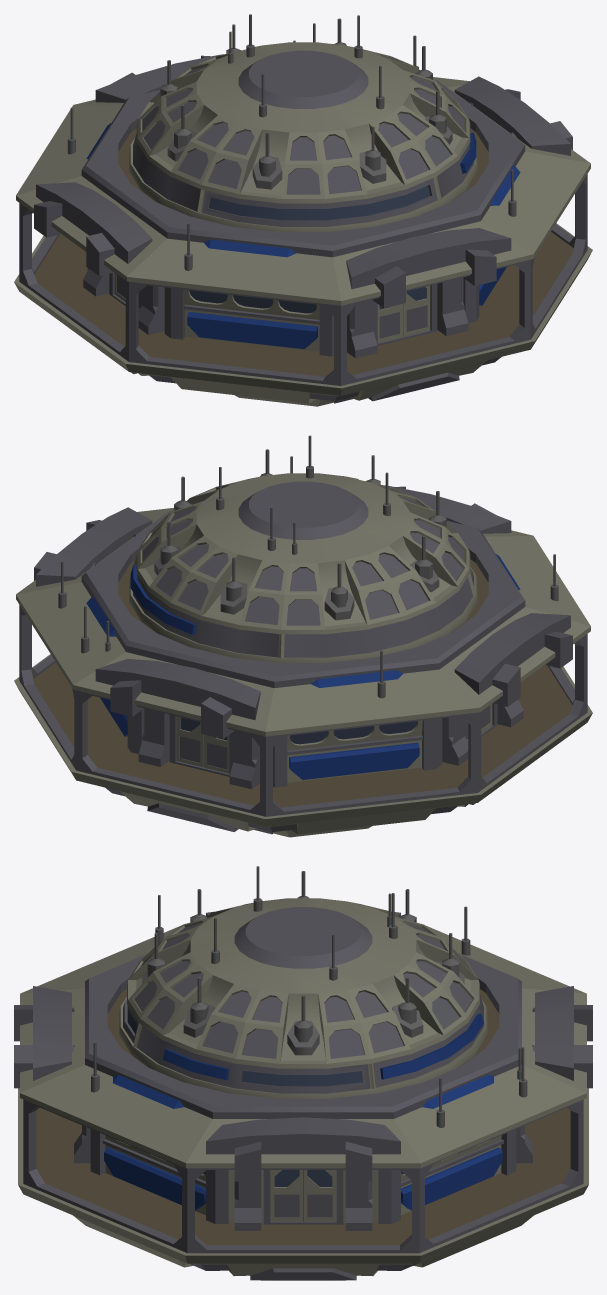
The model's file is LPSciFi_CircularHub.fbx.
The picture shows the model from 3 angles, top to bottom: view 1: azimuth 30°, elevation 25°; view 2: azimuth 150°, elevation 25°; view 3: azimuth 270°, elevation 25°; orthographic projection. The views are drawn at different scales.
Parts seen in each view (by area): view 1: CircularHub; view 2: CircularHub; view 3: CircularHub.
Part boxes in pixels (x1,y1,x2,y2): CircularHub: (14,14,592,406); CircularHub: (14,435,592,837); CircularHub: (14,866,592,1280).
Bounding box in the file's own units: 1910 × 1229 × 1910.
